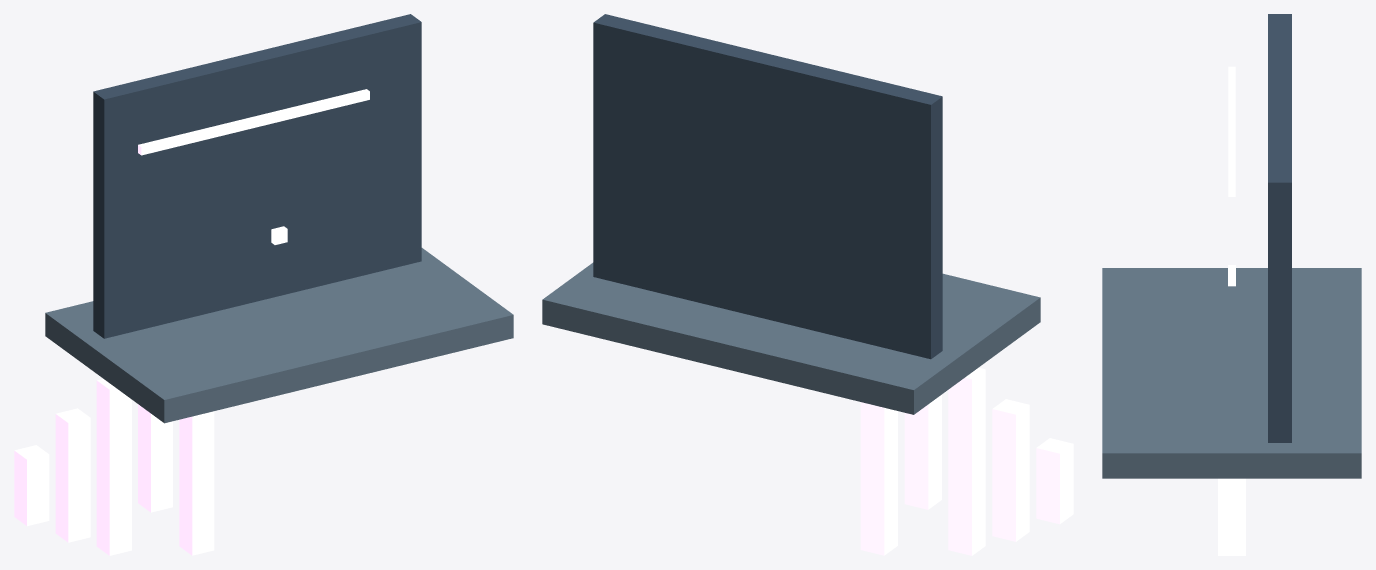
File: plan_07.glb
The picture shows the model from 3 angles, left to right: view 1: azimuth 30°, elevation 25°; view 2: azimuth 150°, elevation 25°; view 3: azimuth 270°, elevation 25°; orthographic projection. The views are drawn at different scales.
Parts seen in each view (by area): view 1: laptop_screen, laptop_base, codebar2, codebar4, codebar1, codebar3, codebar0, code0, code2, code1, code4; view 2: laptop_screen, laptop_base, codebar2, codebar4, codebar1, codebar3, codebar0; view 3: laptop_base, laptop_screen, codebar4, code0, code3.
Boxes of the visible parts, bbox=[...] form: laptop_screen: bbox=[93, 14, 421, 338]; laptop_base: bbox=[45, 248, 513, 423]; codebar2: bbox=[96, 379, 131, 555]; codebar4: bbox=[179, 411, 214, 555]; codebar1: bbox=[55, 408, 90, 542]; codebar3: bbox=[138, 404, 172, 512]; codebar0: bbox=[14, 445, 49, 526]; code0: bbox=[138, 120, 242, 155]; code2: bbox=[217, 104, 306, 136]; code1: bbox=[176, 112, 274, 145]; code4: bbox=[294, 89, 369, 114]; laptop_screen: bbox=[593, 14, 942, 359]; laptop_base: bbox=[542, 262, 1040, 414]; codebar2: bbox=[948, 367, 985, 555]; codebar4: bbox=[860, 402, 897, 555]; codebar1: bbox=[992, 399, 1029, 541]; codebar3: bbox=[904, 394, 941, 509]; codebar0: bbox=[1036, 438, 1073, 524]; laptop_base: bbox=[1102, 268, 1361, 478]; laptop_screen: bbox=[1268, 14, 1291, 442]; codebar4: bbox=[1218, 478, 1245, 555]; code0: bbox=[1228, 66, 1235, 120]; code3: bbox=[1228, 127, 1235, 171].
Size of the model in its own units: 1.81 by 1.82 by 0.8635.
